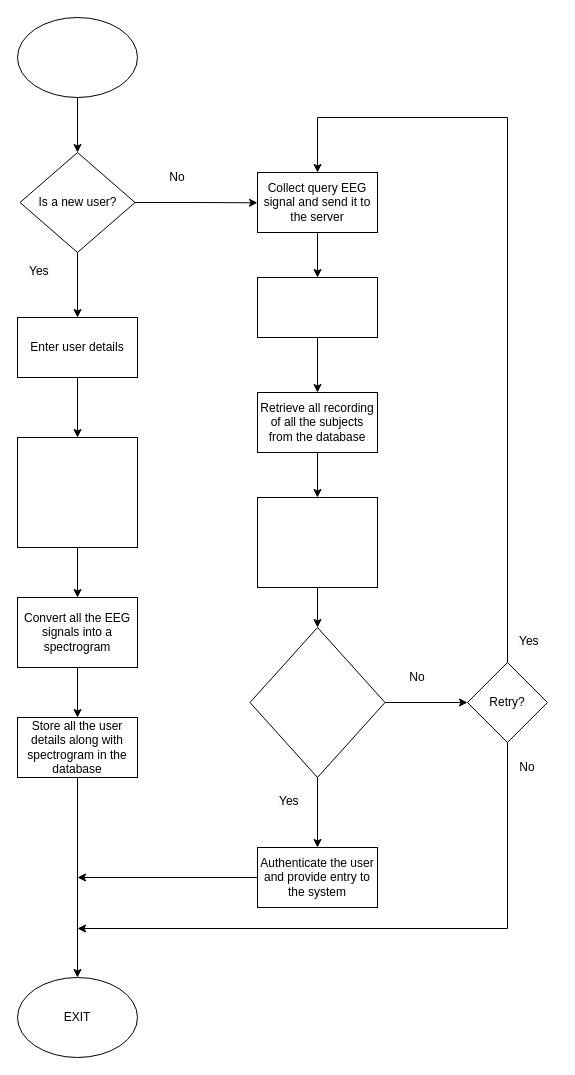
Image size: 575x1075. Some labels were removed from this diagram. Each missing label, with the centre of its shape:
"Collect six EEG signals of the user performing the task and send it to server" belongs at pixel 77 492.
"Convert the received signal into a spectrogram" belongs at pixel 317 307.
"Get similarity score of the query recording against all the recordings" belongs at pixel 317 542.
"Is the similarity score above threshold?" belongs at pixel 317 702.
"START" belongs at pixel 77 57.
